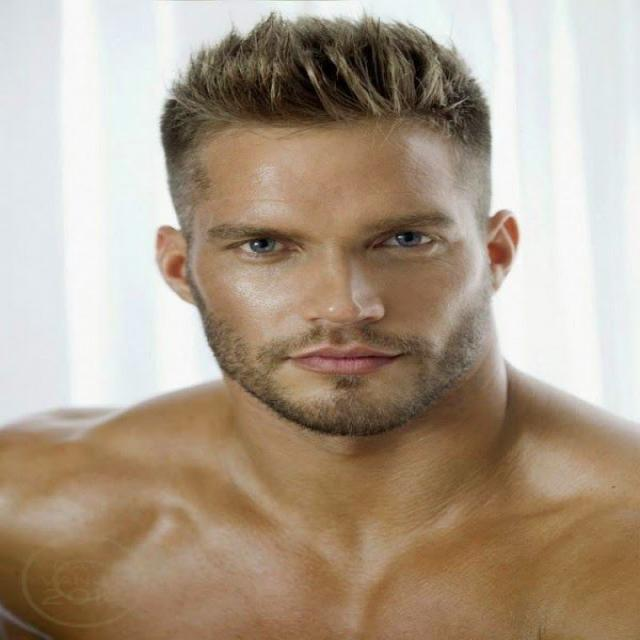earlobe: (155, 226, 200, 306), (488, 208, 521, 297)
